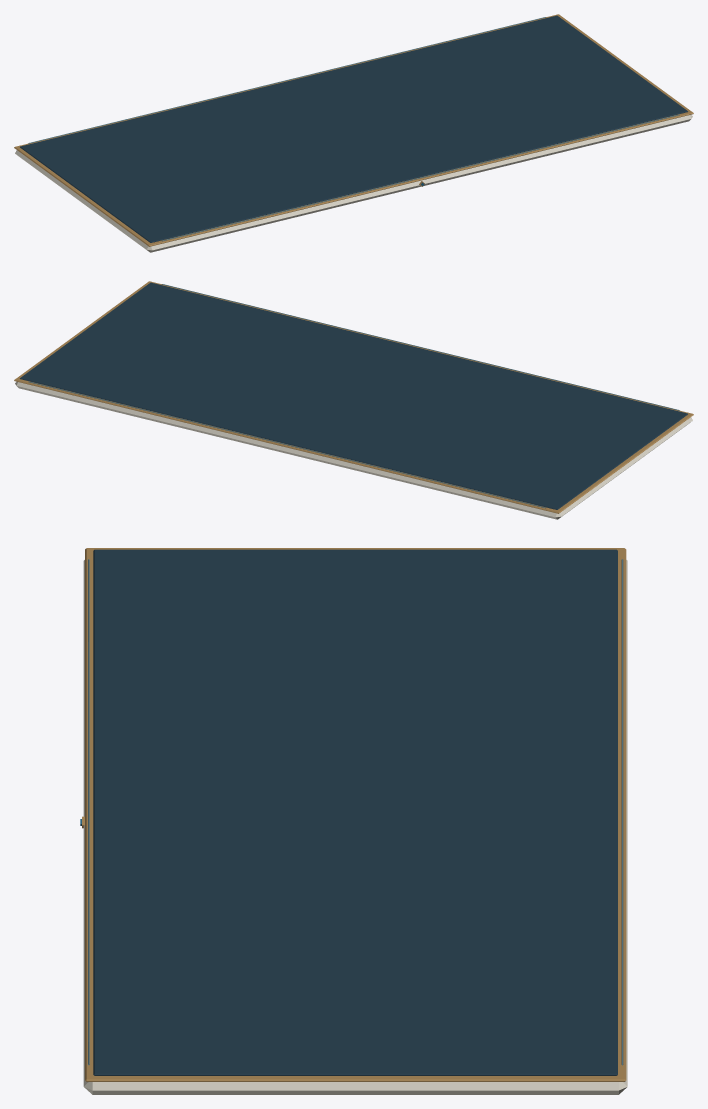
The model's file is supply-low.glb.
3 renders of one model, top to bottom at view 1: azimuth 30°, elevation 25°; view 2: azimuth 150°, elevation 25°; view 3: azimuth 270°, elevation 25°, orthographic. The views are drawn at different scales.
Parts seen in each view (by area): view 1: SupplyVisual; view 2: SupplyVisual; view 3: SupplyVisual.
Part boxes in pixels (x1,y1,x2,y2): SupplyVisual: (14, 14, 693, 252); SupplyVisual: (14, 281, 693, 519); SupplyVisual: (80, 548, 627, 1094).
Bounding box in the file's own units: 0.288 × 0.00512 × 0.1249.
